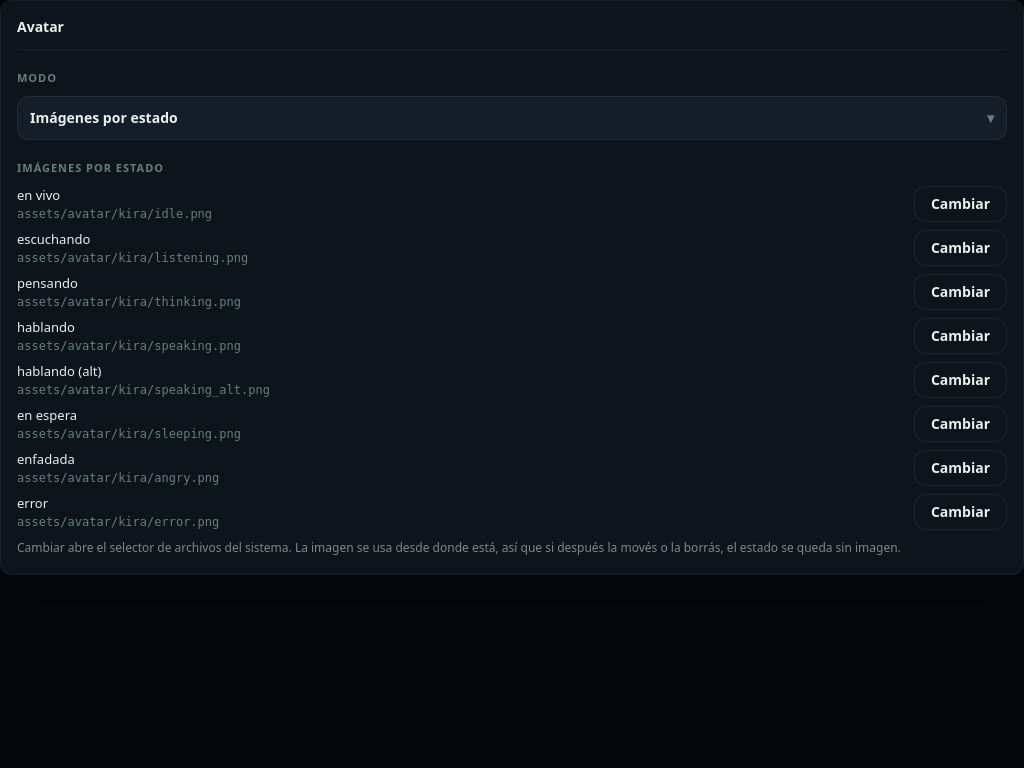
AvatarCard mode change PUTs the edited config › surfaces a PUT 422 validation error honestly
Click the dropdown named "Modo": (104, 118) [17, 96, 1007, 140]
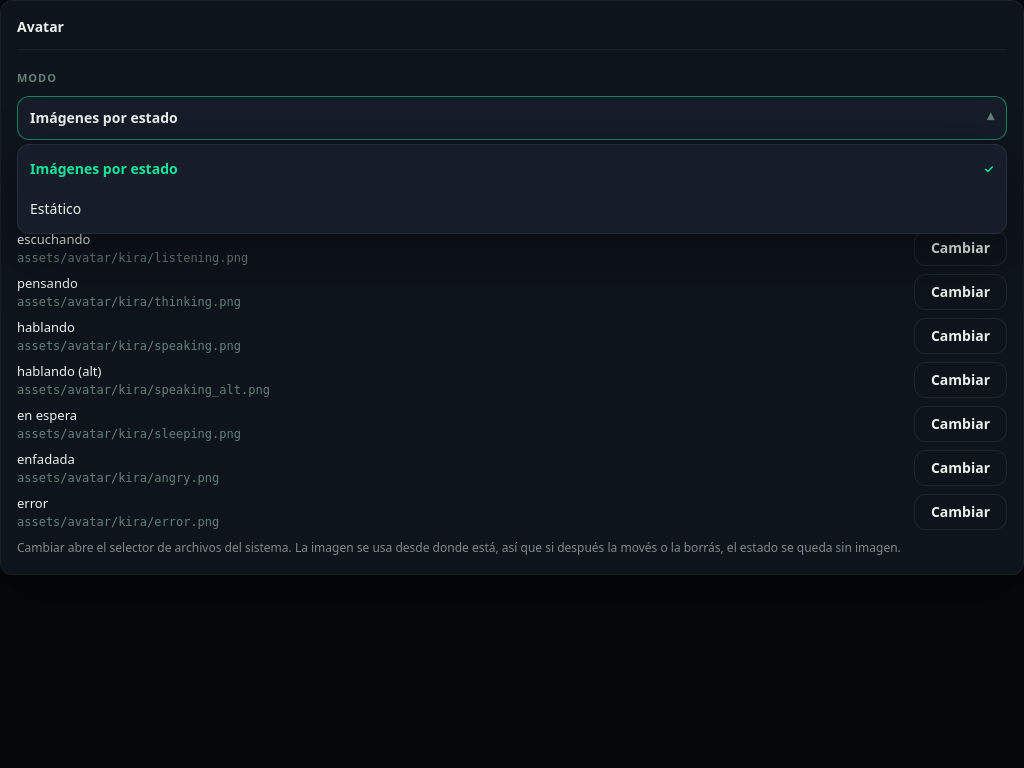
Click the option "Estático": (56, 208) [30, 199, 81, 218]
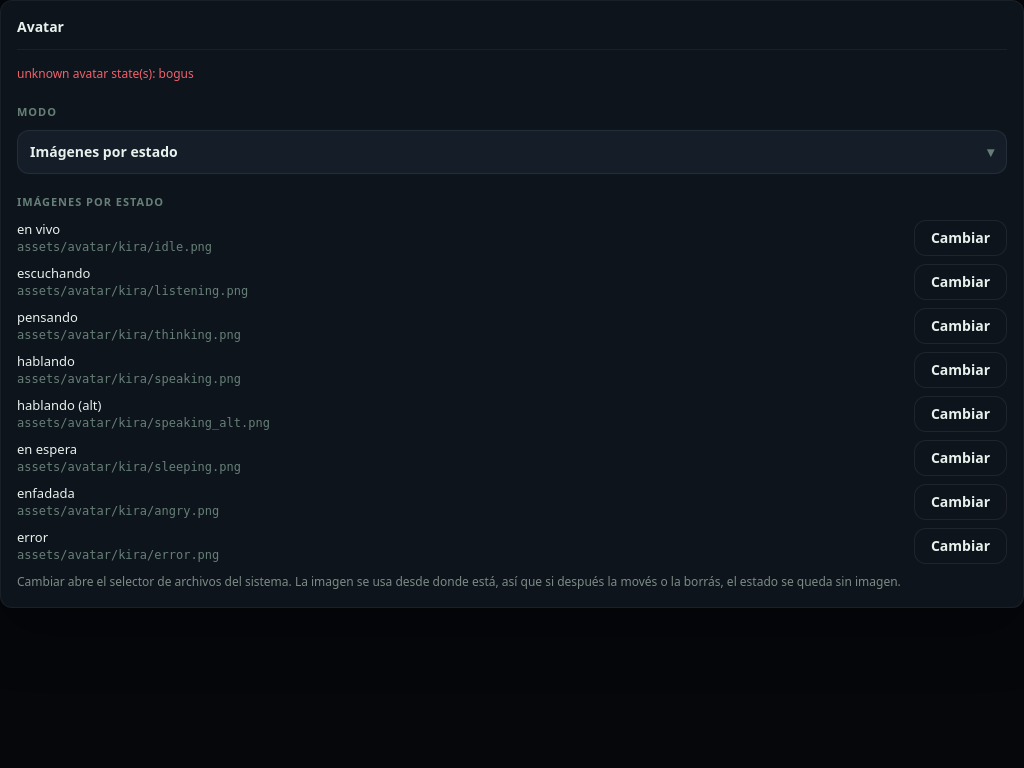
Now the message "unknown avatar state(s): bogus" is shown, box [17, 65, 194, 82]
